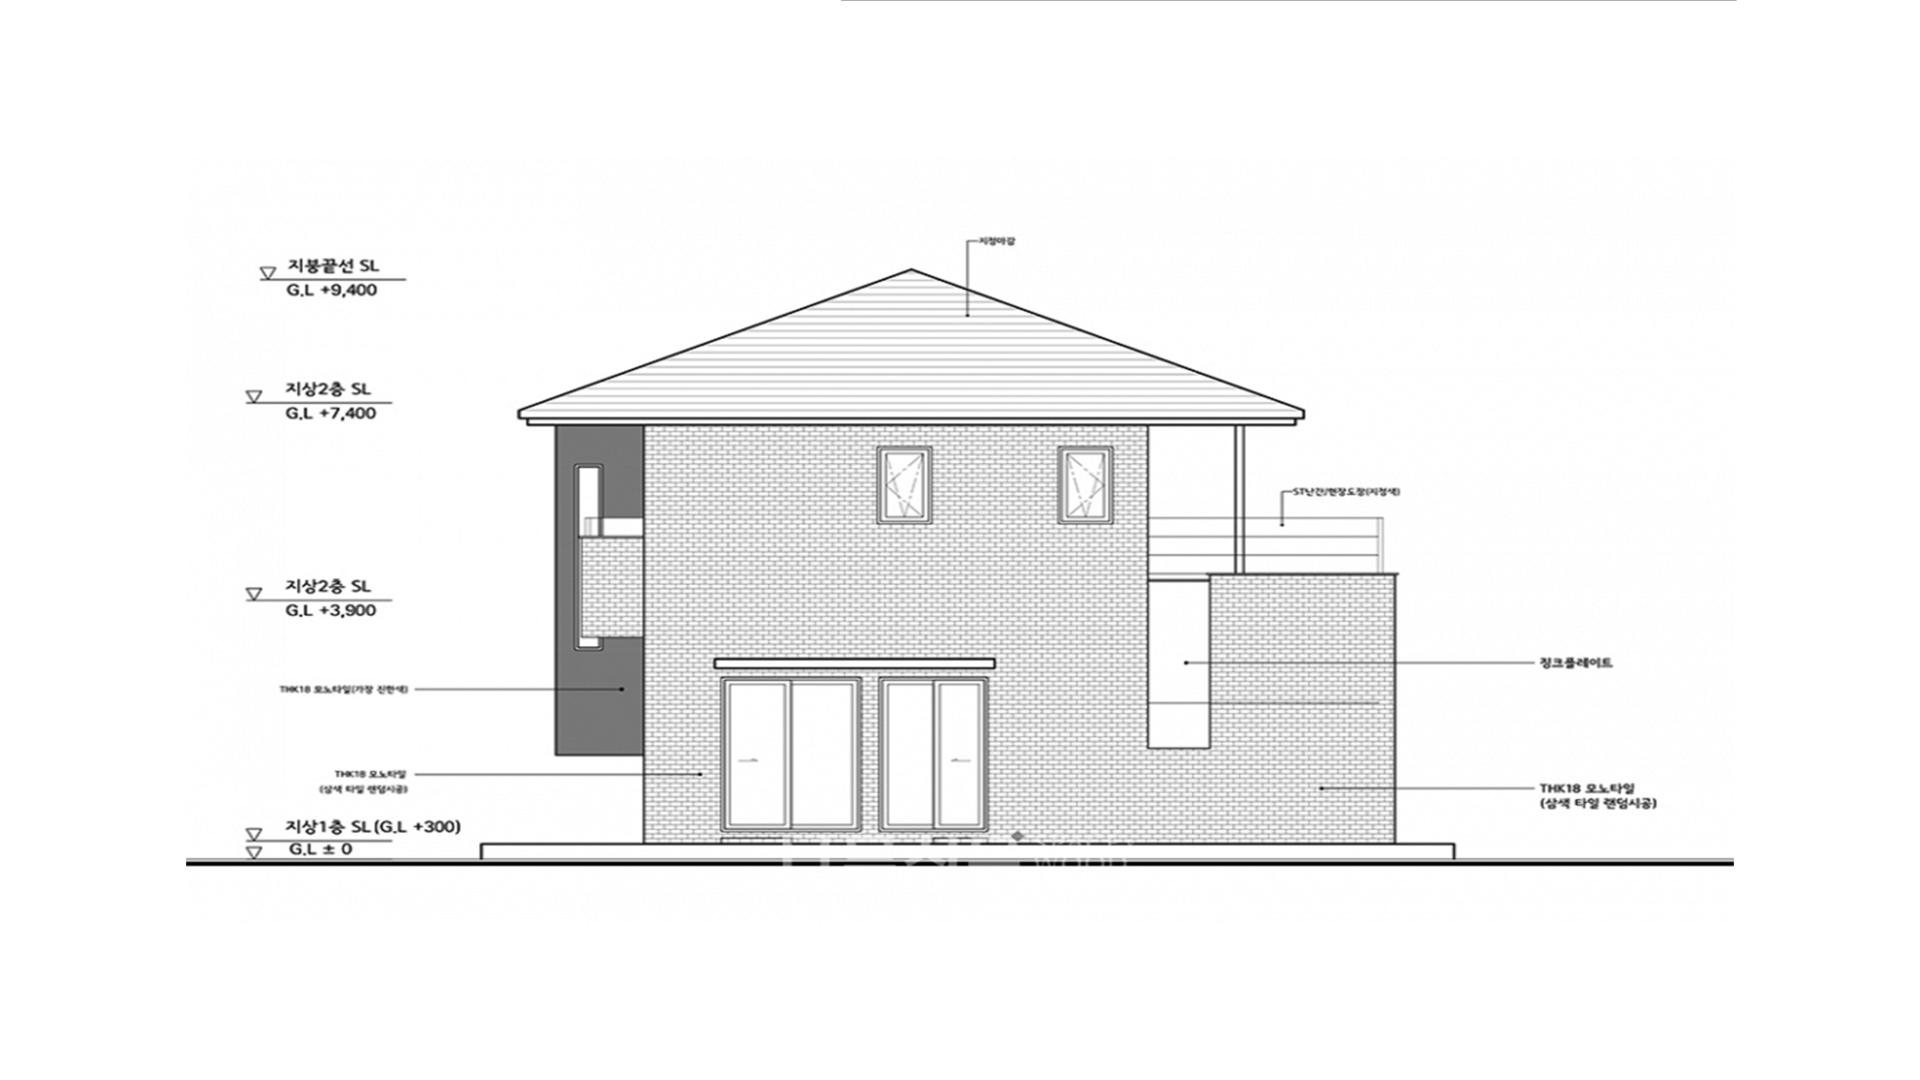wall: (479, 268, 1455, 860)
window: (719, 676, 864, 832), (877, 676, 989, 833), (876, 446, 932, 525), (1058, 446, 1114, 525)
